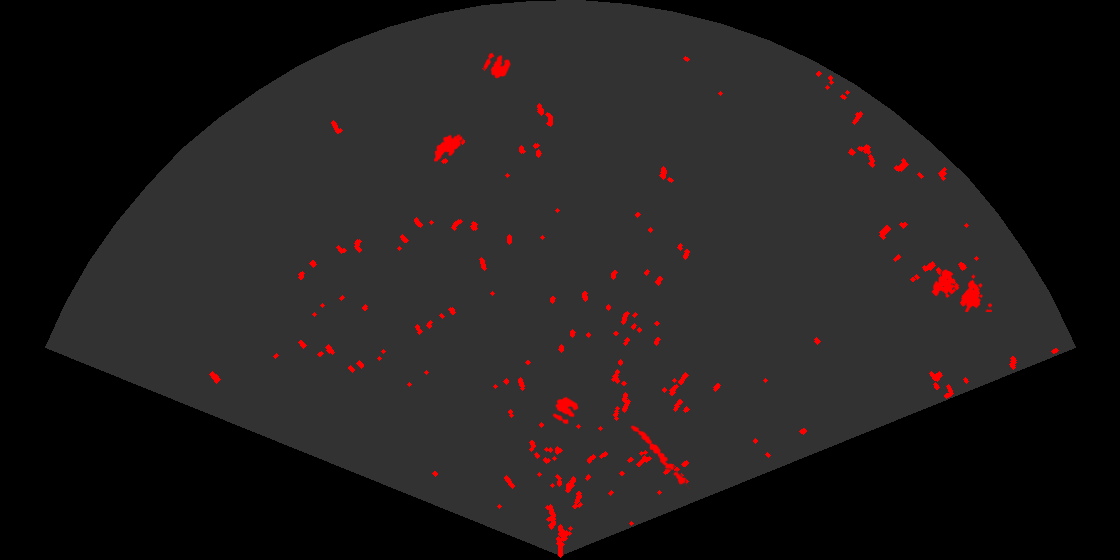AUV: (432, 133, 464, 164)
ball: (551, 395, 580, 426), (482, 51, 512, 80)
cage: (930, 267, 992, 312)
chain: (629, 424, 692, 489)
